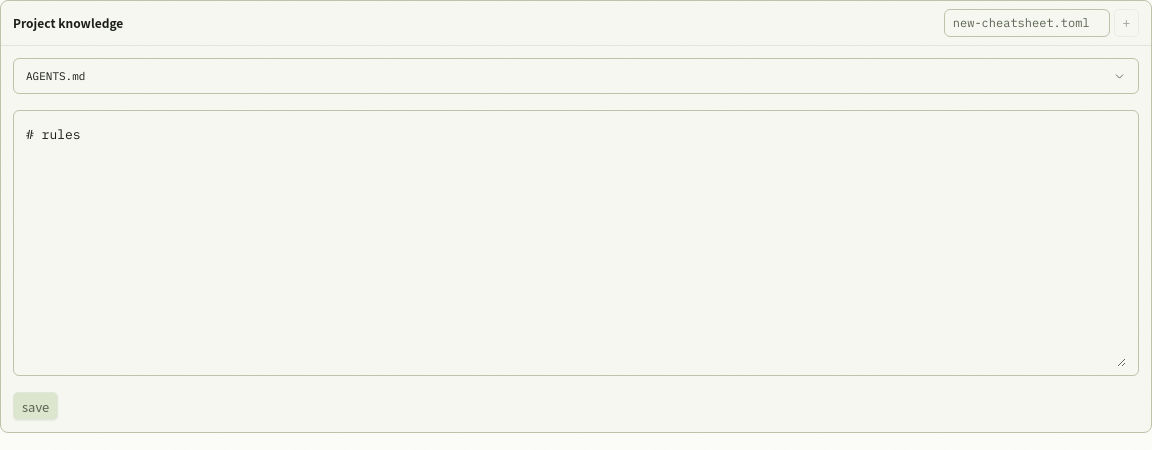
Scenario: Knowledge › marks a file that does not exist on disk yet
Click the button with aria-label "knowledge file": (56, 76) 13,58 -> 1139,94
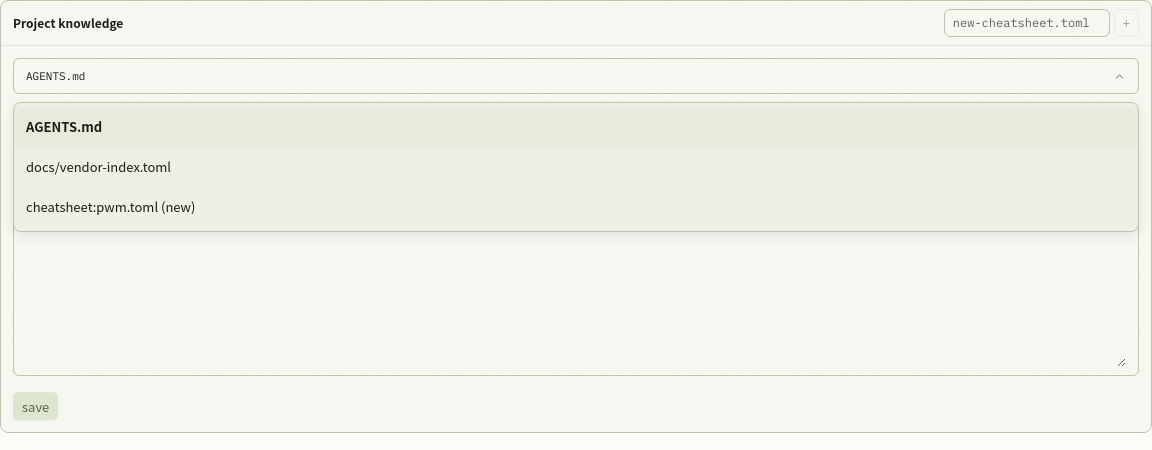
Result: the option "cheatsheet:pwm.toml (new)" is shown at 26,197 -> 195,216
Result: the option "AGENTS.md" is shown at 14,107 -> 1138,147
